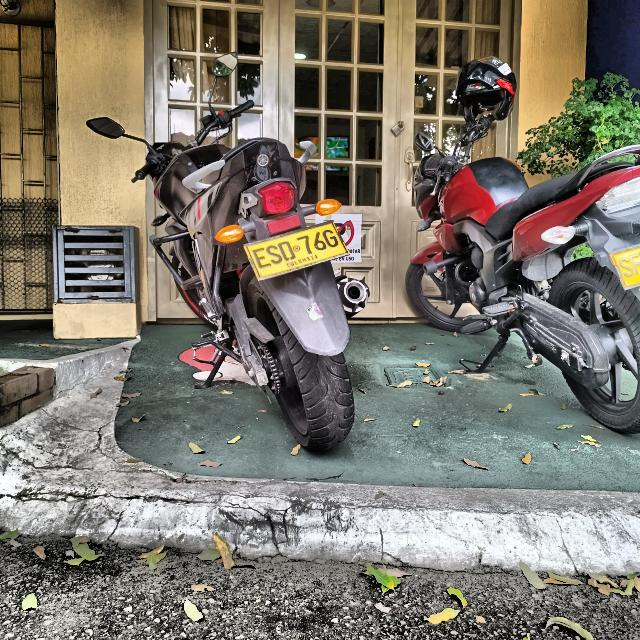plate: (245, 221, 348, 280)
